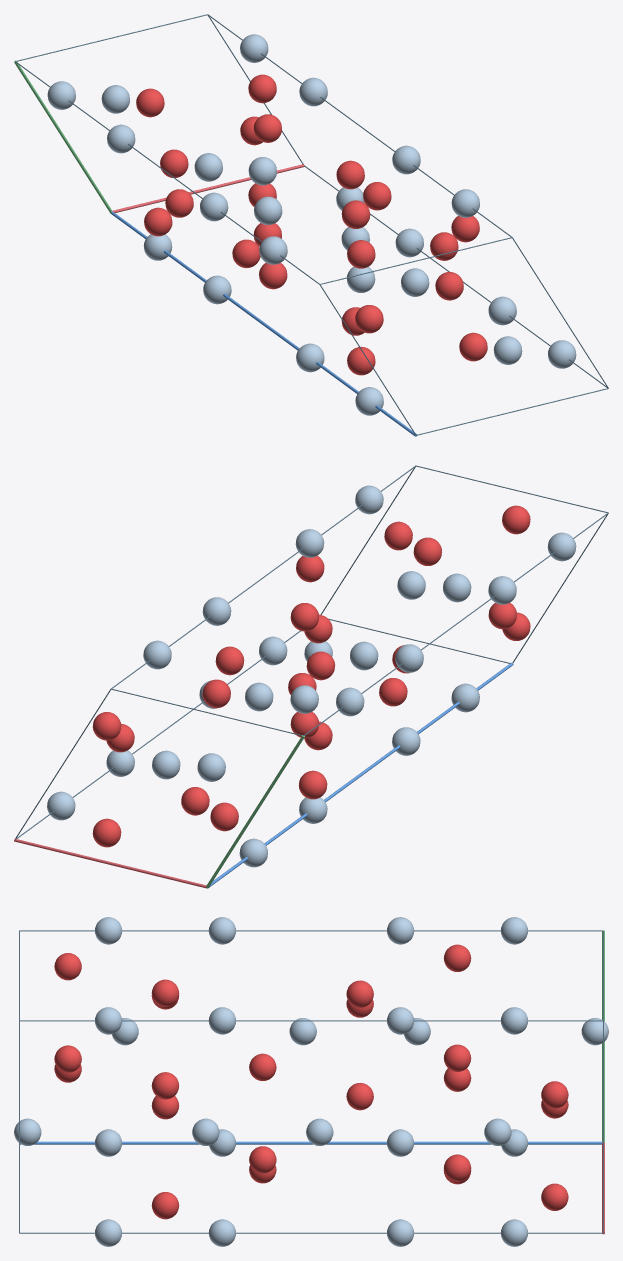
Rendered from chat-eskolaite.glb.
The picture shows the model from 3 angles, top to bottom: view 1: azimuth 30°, elevation 25°; view 2: azimuth 150°, elevation 25°; view 3: azimuth 270°, elevation 25°; orthographic projection. The views are drawn at different scales.
Parts seen in each view (by area): view 1: Cr · Cr · 1 (×22), O · O · 1 (×18), Ô mạng và các trục a, b, c; view 2: Cr · Cr · 1 (×22), O · O · 1 (×16), Ô mạng và các trục a, b, c; view 3: Cr · Cr · 1 (×24), O · O · 1 (×16), Ô mạng và các trục a, b, c.
Boxes of the visible parts, x1=… form: Cr · Cr · 1 (×22): x1=47, y1=34, x2=576, y2=415; O · O · 1 (×18): x1=136, y1=74, x2=487, y2=375; Ô mạng và các trục a, b, c: x1=14, y1=14, x2=608, y2=436; Cr · Cr · 1 (×22): x1=47, y1=485, x2=576, y2=867; O · O · 1 (×16): x1=92, y1=505, x2=530, y2=847; Ô mạng và các trục a, b, c: x1=14, y1=465, x2=608, y2=888; Cr · Cr · 1 (×24): x1=14, y1=917, x2=608, y2=1246; O · O · 1 (×16): x1=54, y1=944, x2=568, y2=1219; Ô mạng và các trục a, b, c: x1=19, y1=930, x2=604, y2=1234.
Bounding box in the file's own units: 8.08 × 4.94 × 13.85.
